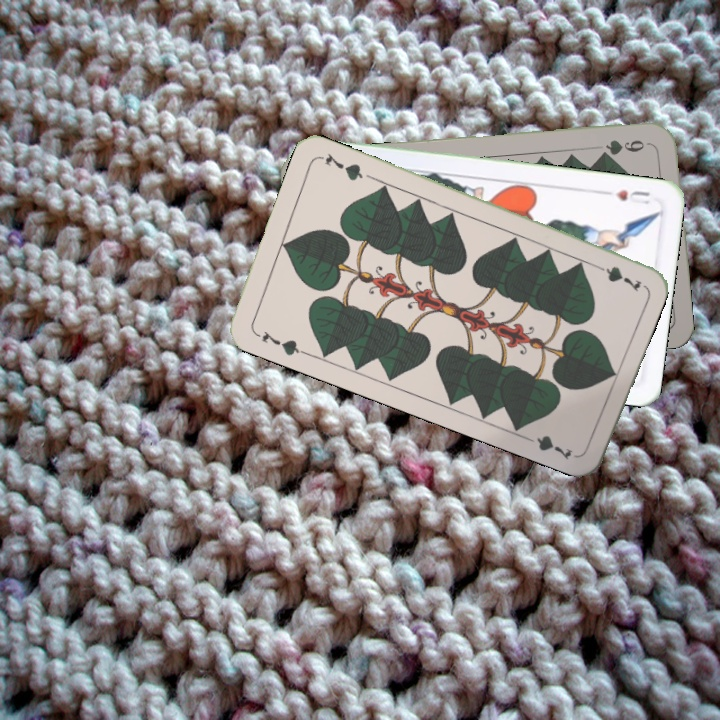G7: (587, 259, 644, 293), (251, 326, 307, 359)
G9: (595, 136, 653, 159)
HU: (600, 186, 652, 207)
